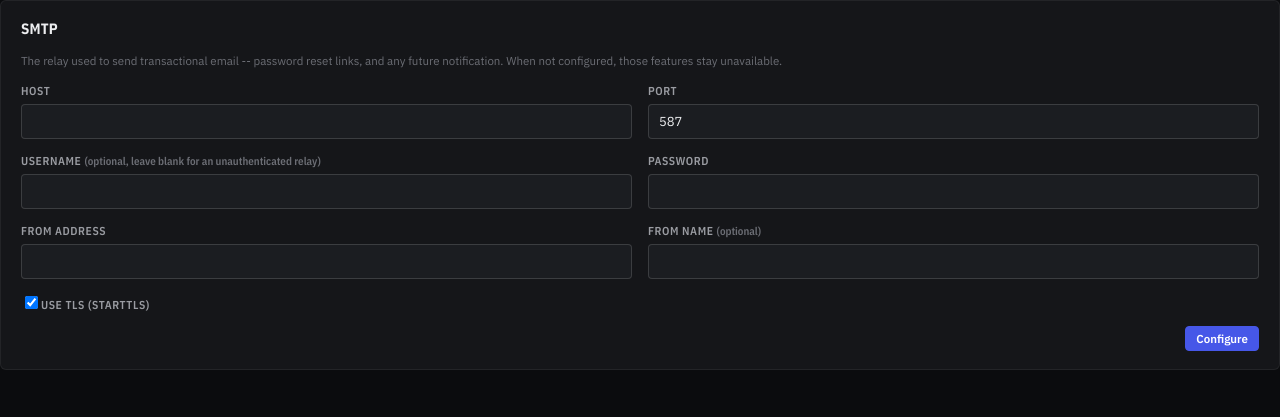
it: SMTPConfigPanel › saving the form PUTs the config and shows a success message
This screenshot has width=1280, height=417.
In the field labelled "Host": x=326, y=122 [21,104,632,139], type "smtp.example.com"
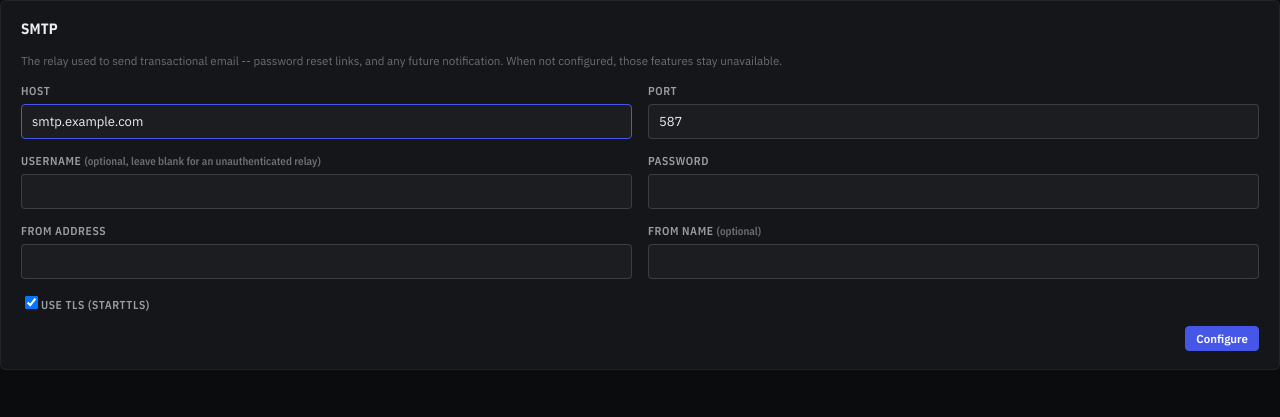
In the field labelled "From address": x=326, y=262 [21,244,632,279], type "no-reply@example.com"
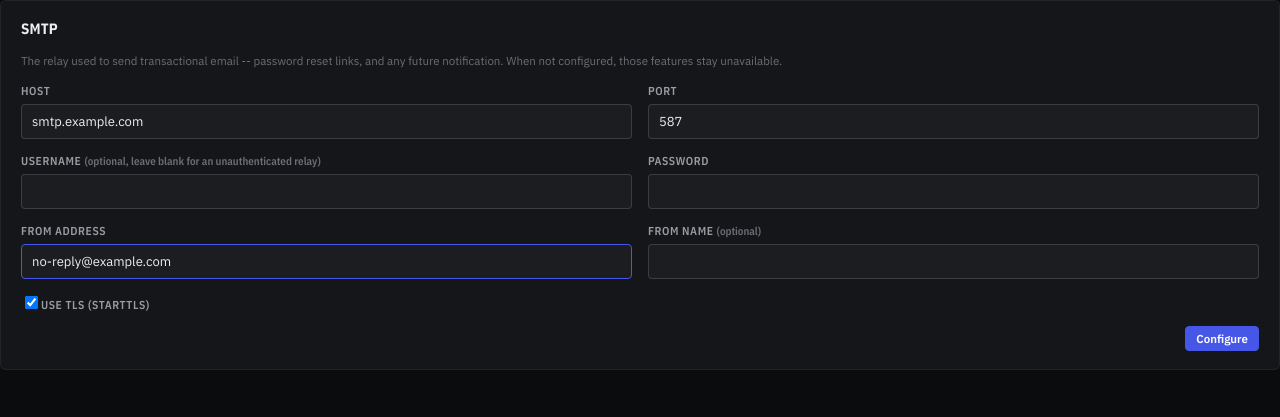
Click the button "Configure": x=1222, y=339 [1185,326,1259,351]
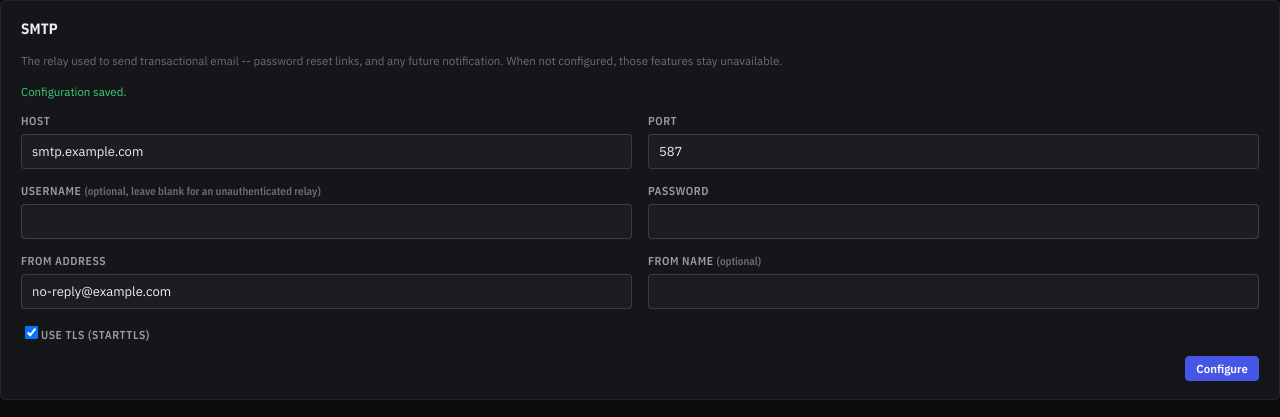
Now the text "Configuration saved." is shown, box [21,84,126,99]
